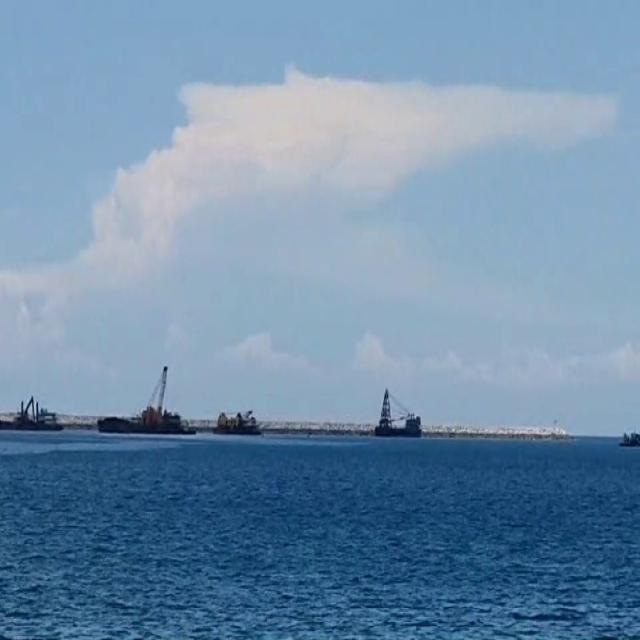civilianship: (101, 356, 194, 478), (353, 371, 426, 471), (2, 384, 64, 459), (213, 381, 266, 456)
